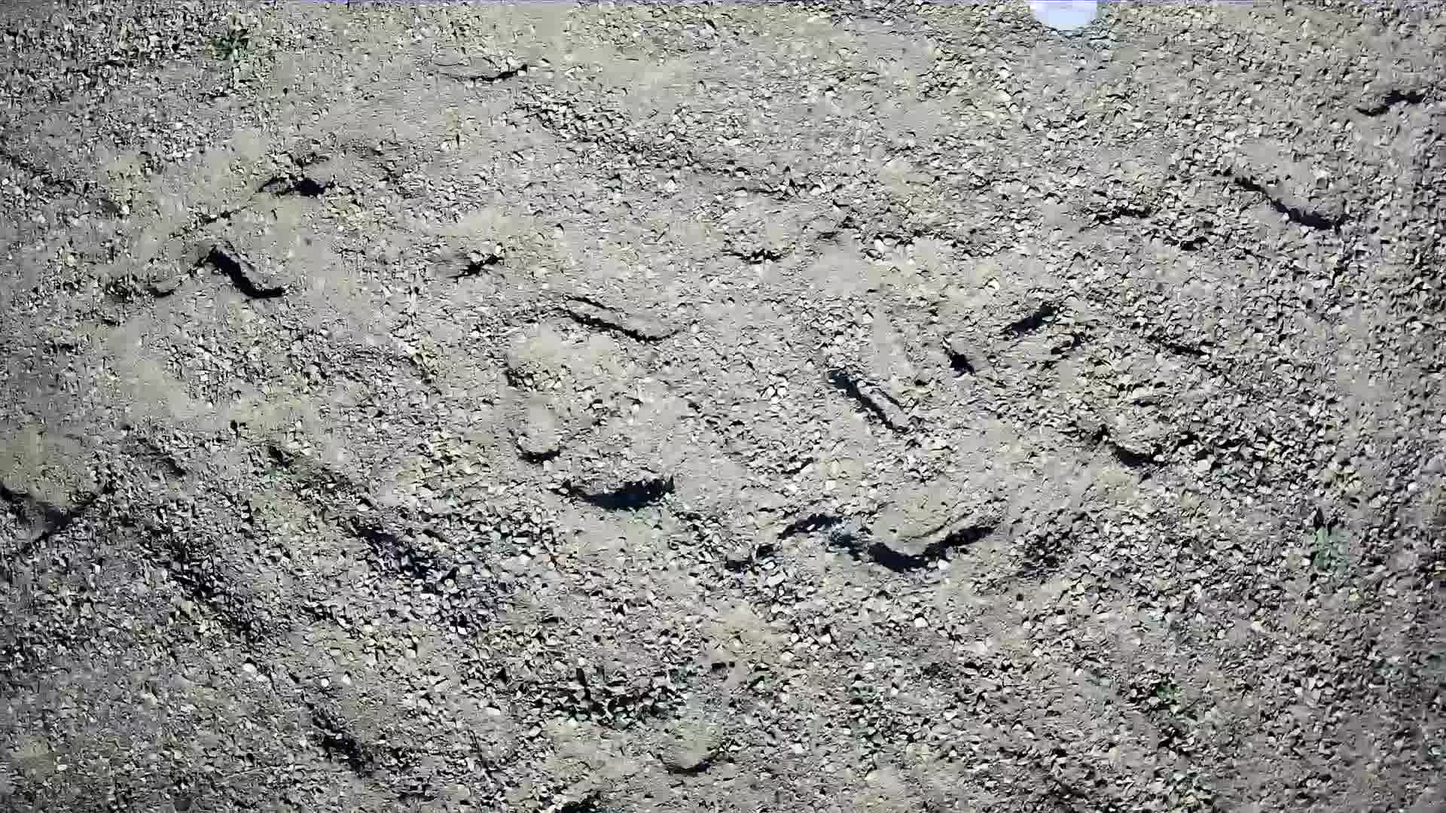Target: (1029, 0, 1098, 26)
